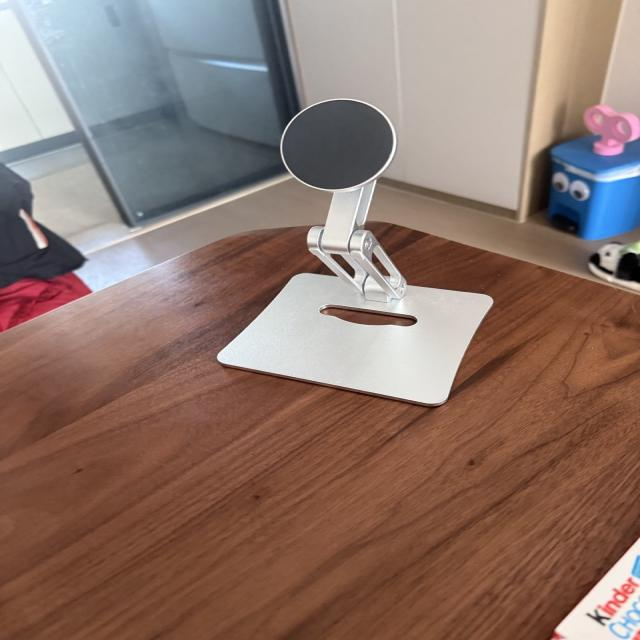phone holder: (215, 95, 499, 415)
